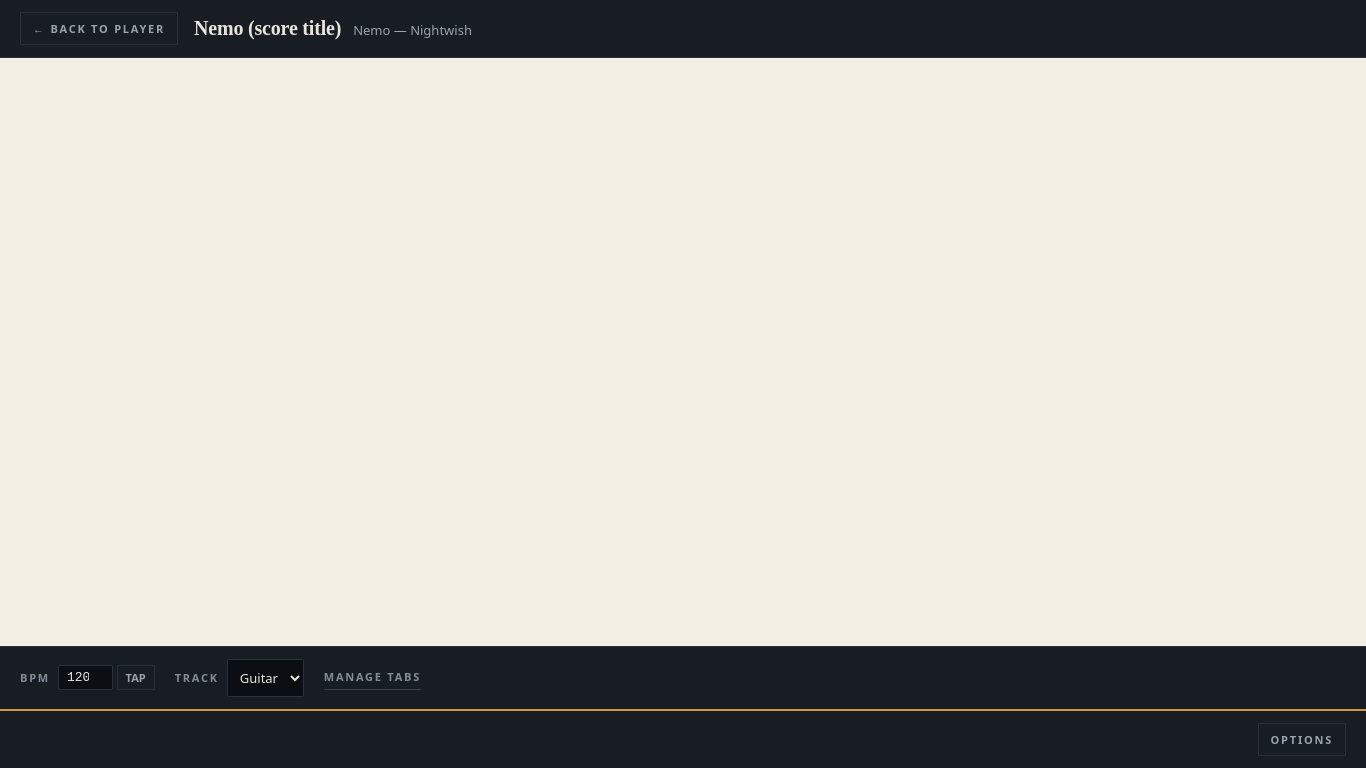
Scenario: TabViewer › tempo › ignores a tempo that is not a number
Clear the number field labelled "BPM" at (85, 678), box [58,665,113,690]
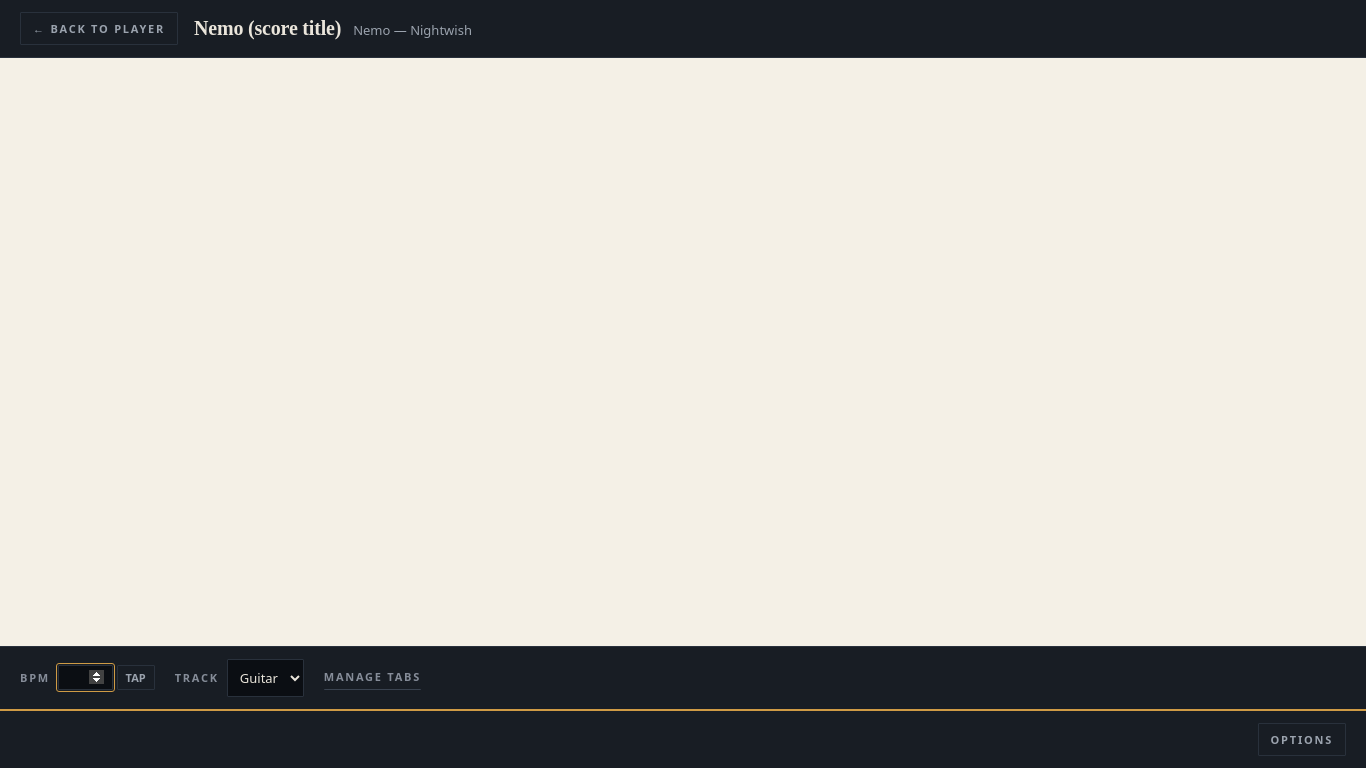
Press Tab
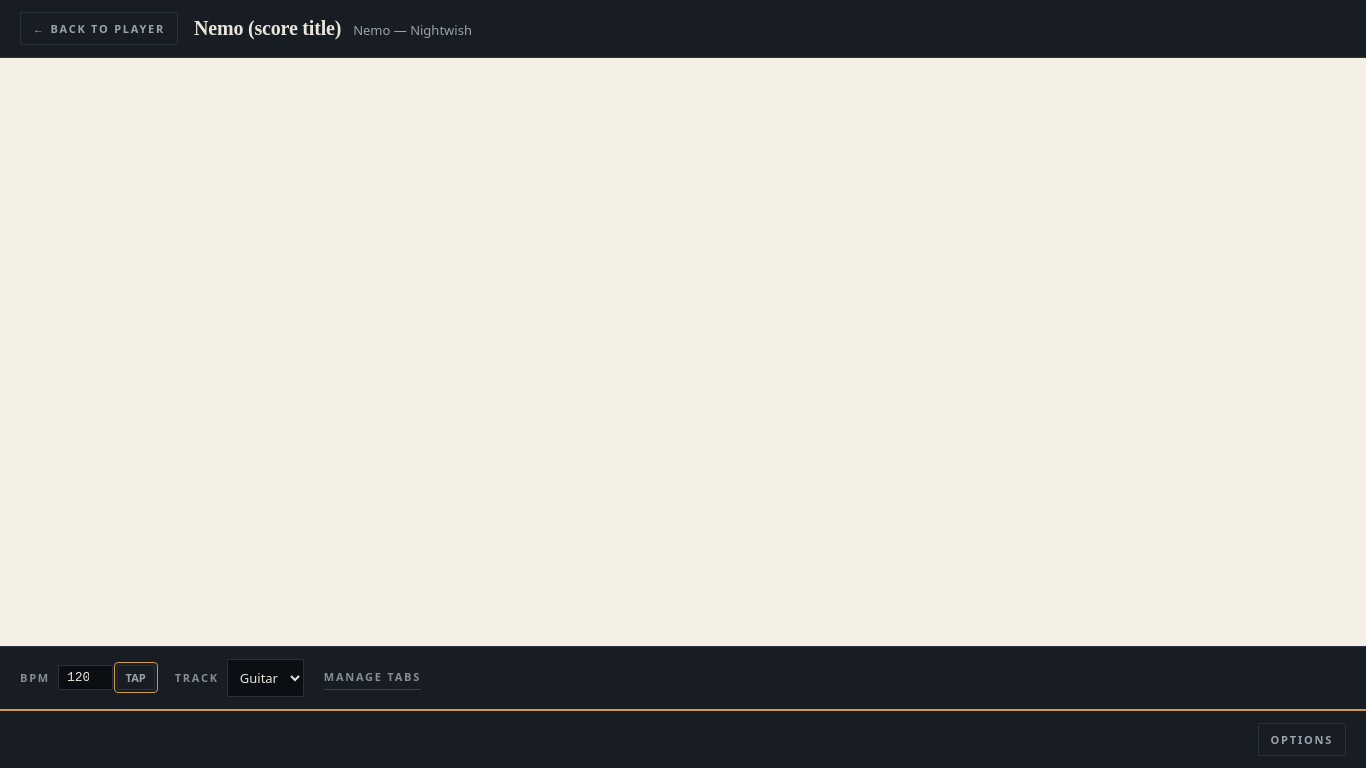
Expected: the number field labelled "BPM" holds "120", [58,665,113,690]
